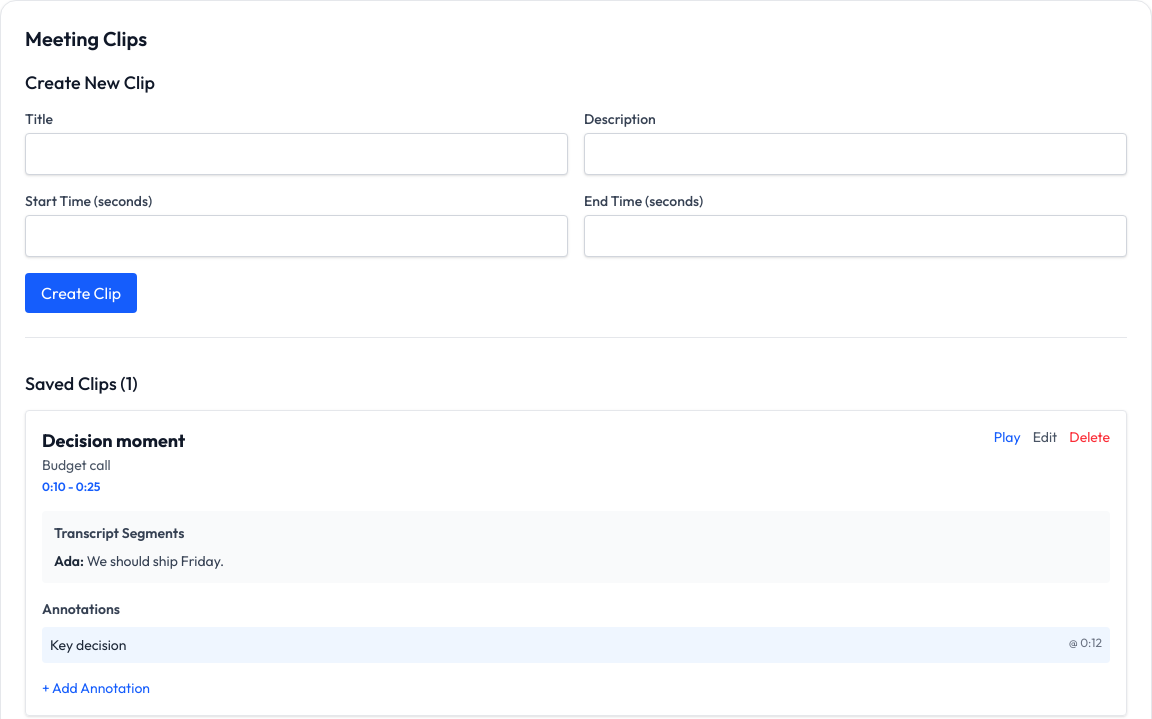
Test: ClipManager (#1987) › adds an annotation and reloads it onto the clip
This screenshot has width=1152, height=719.
expect the heading "Decision moment" is shown: met, box [42, 427, 185, 455]
Click the button "+ Add Annotation" at (96, 688), box [42, 678, 150, 698]
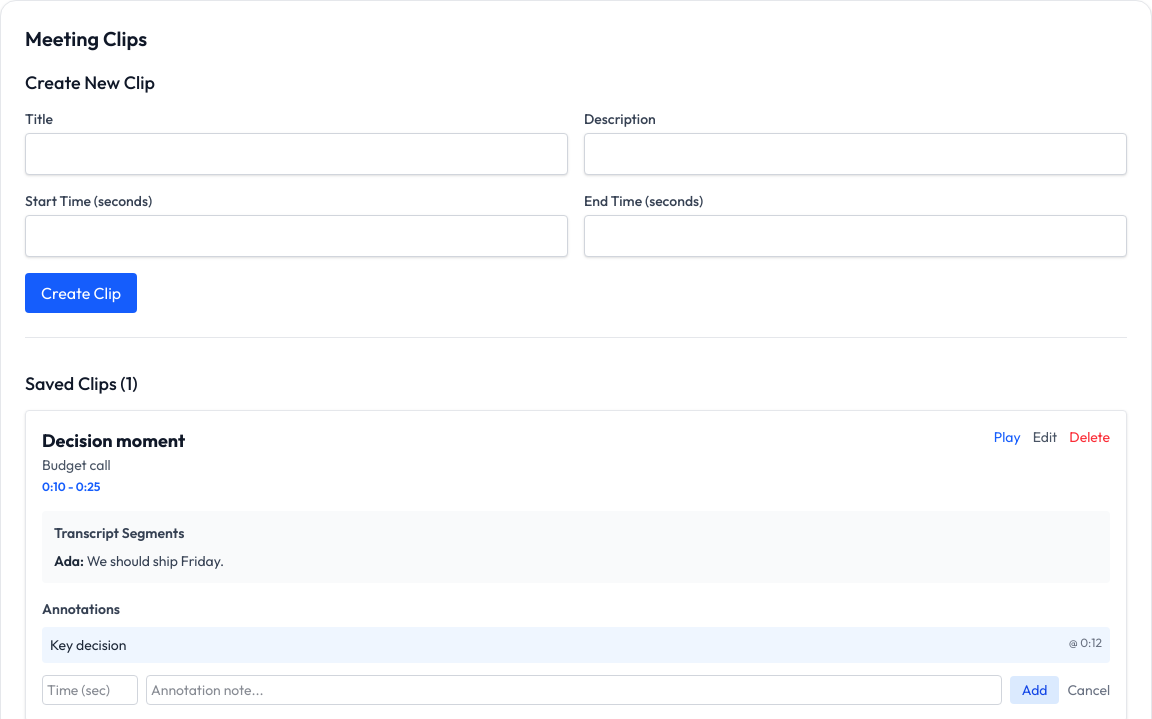
Type "14" into the number field named "annotation time" at (90, 690), box [42, 675, 138, 705]
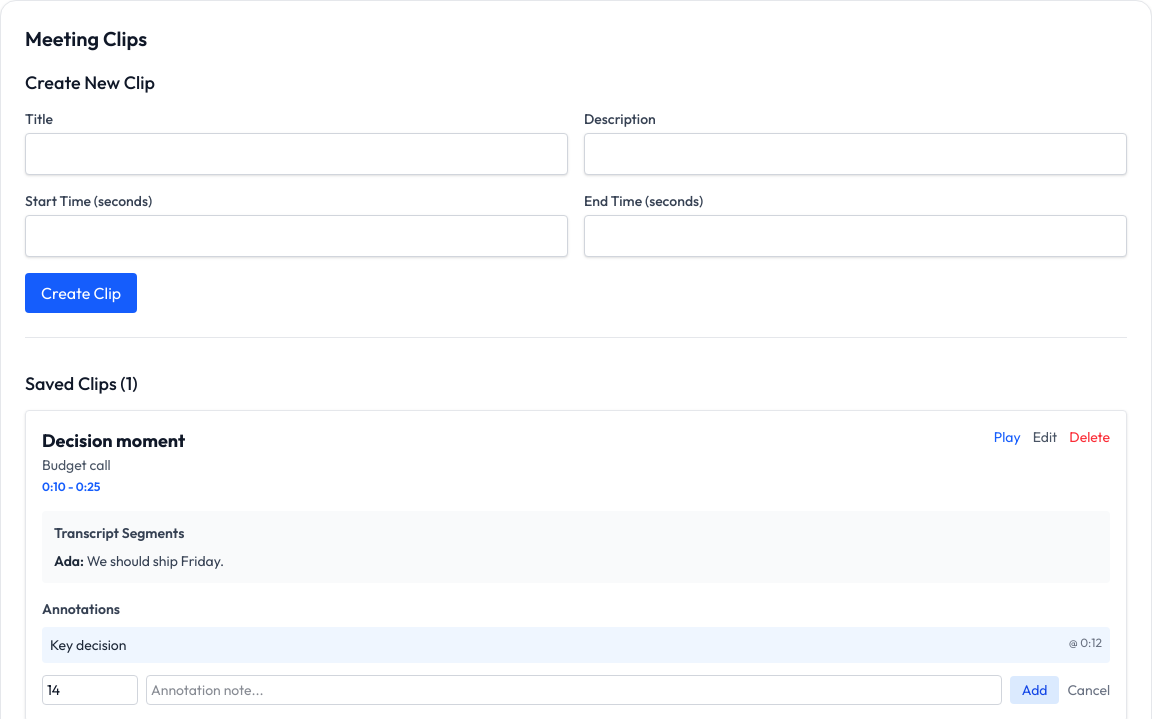
Type "Follow up" into the field labelled "Annotation note..." at (574, 690), box [146, 675, 1002, 705]
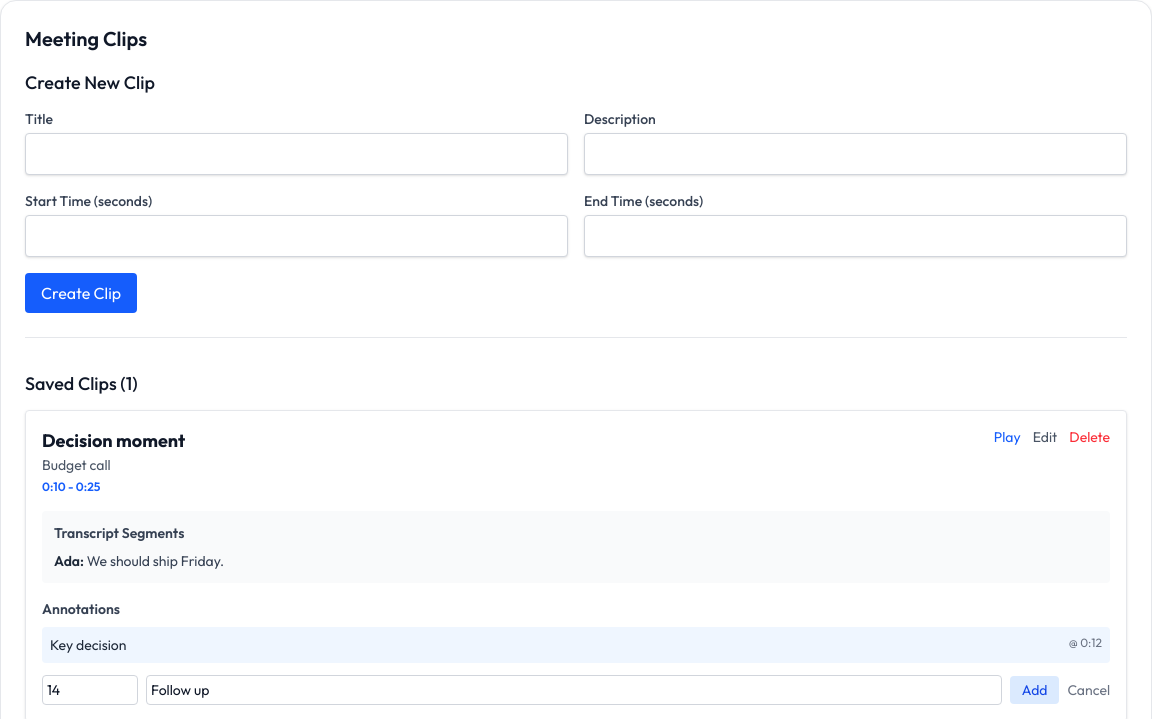
Click the button "Add" at (1035, 690), box [1010, 676, 1059, 704]
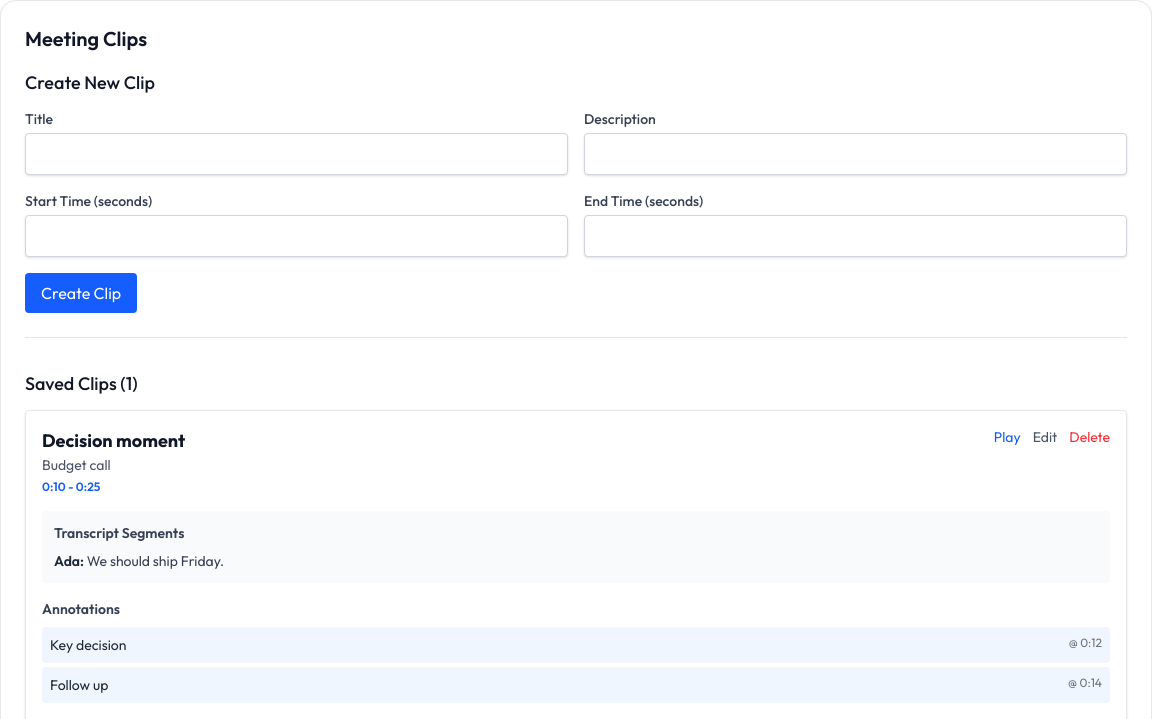
expect the text "Follow up" is shown: met, box [50, 675, 108, 695]
